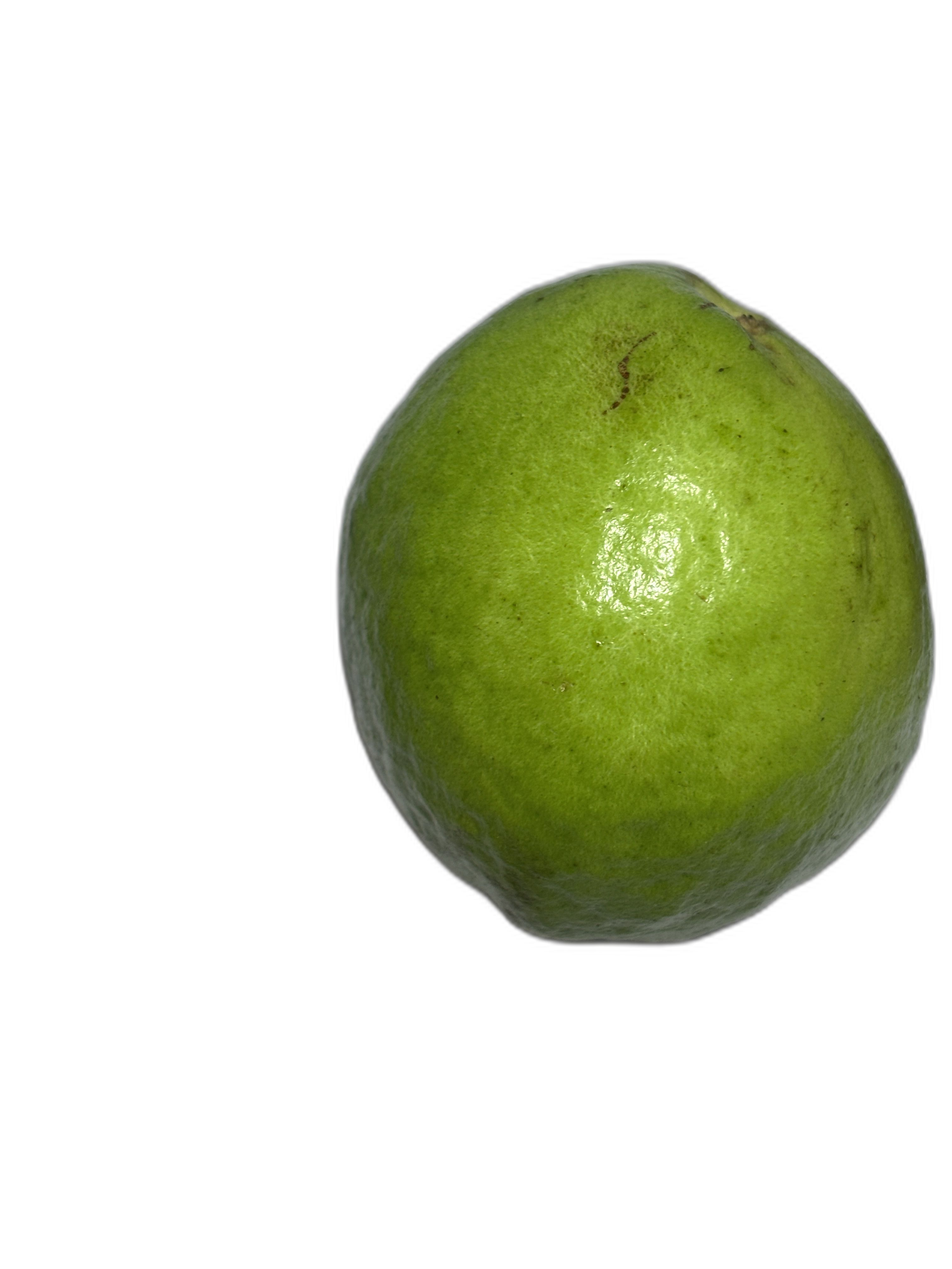guava: (168, 185, 952, 1057)
